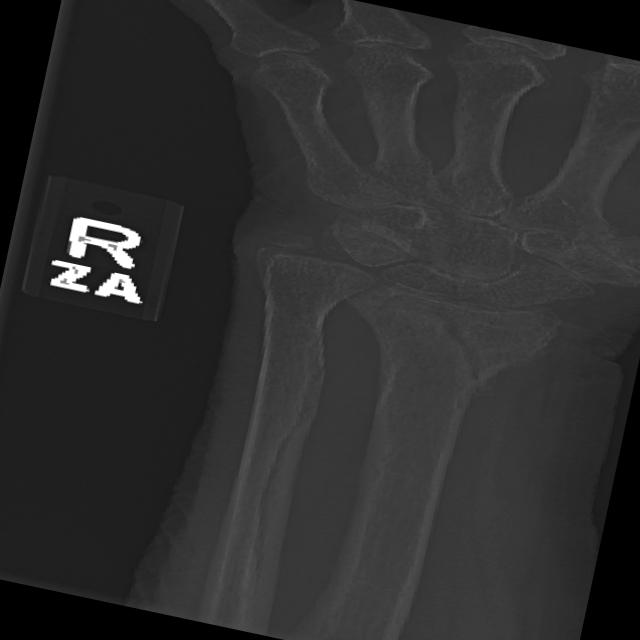wrist positive: (296, 197, 588, 429)
